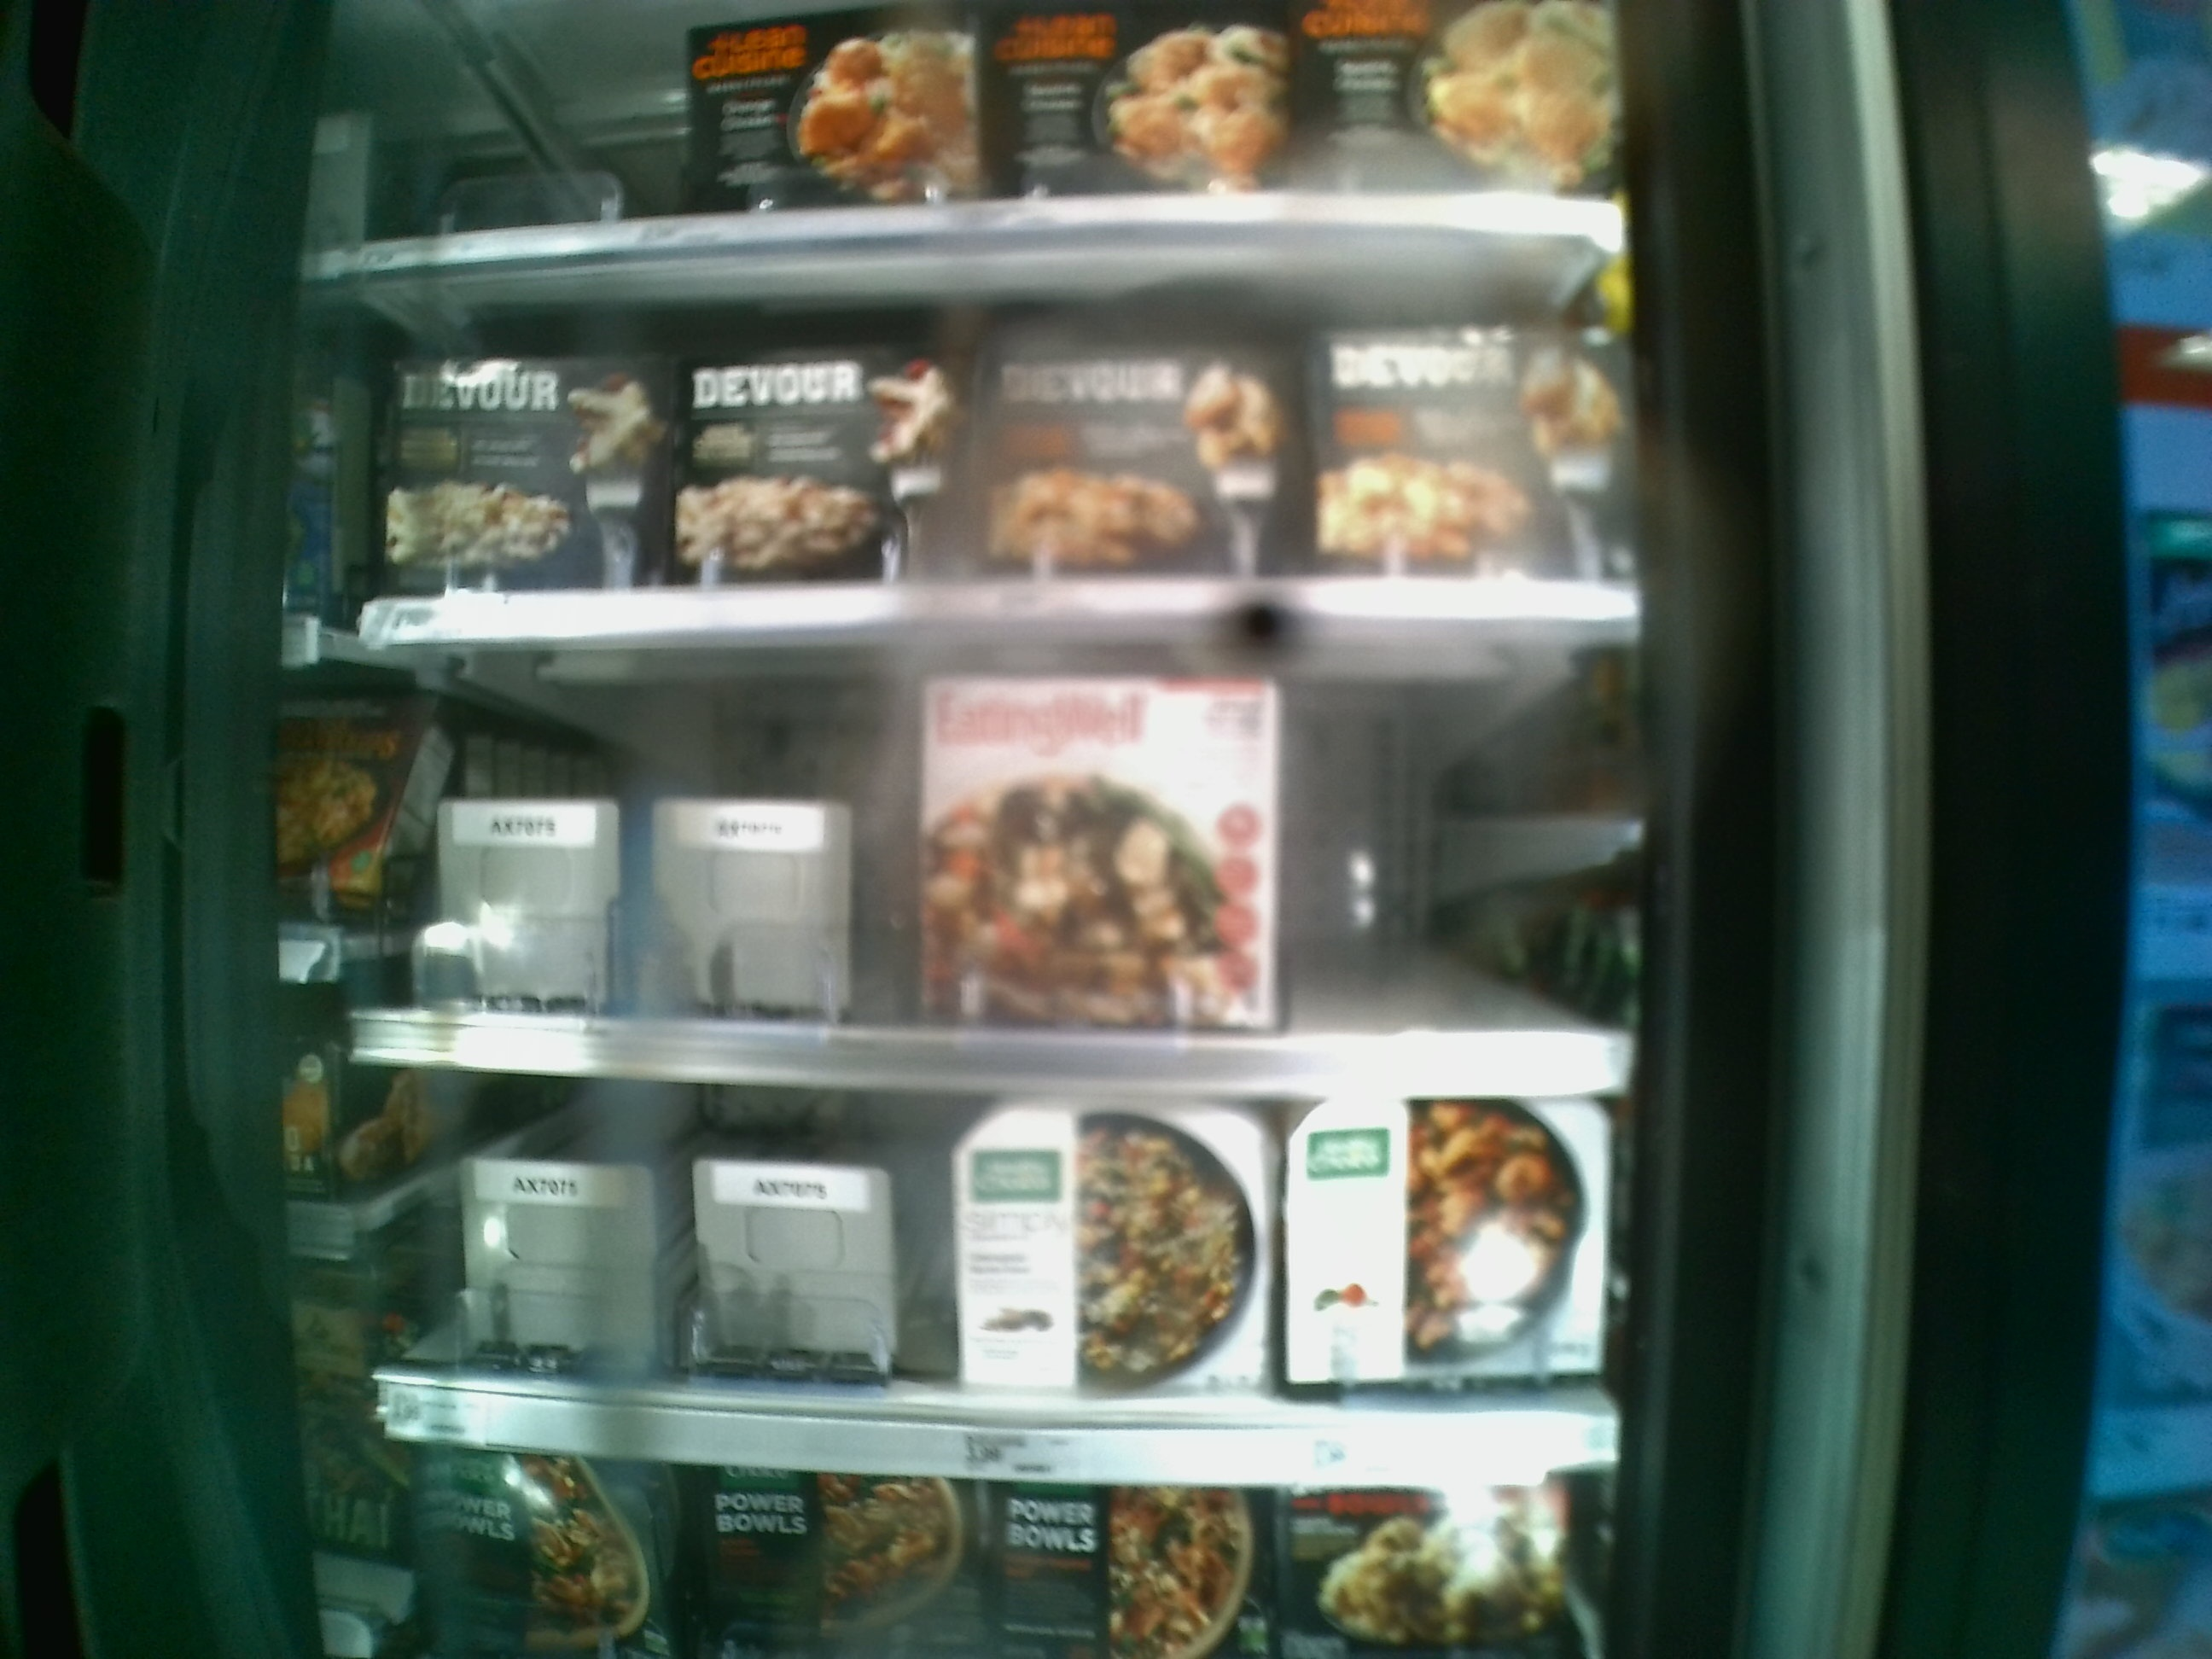Shelf: (359, 636, 1630, 1094), (308, 1065, 1623, 1467), (331, 230, 1618, 641)
